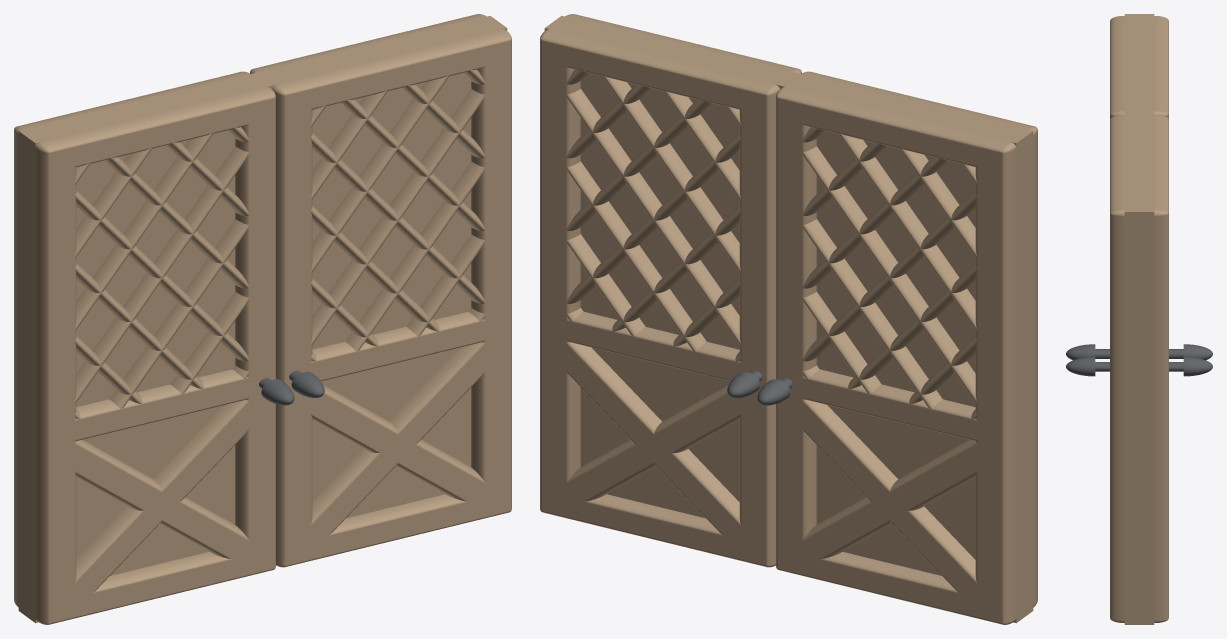
The model's file is doors.glb.
3 views of the same model, side by side, from view 1: azimuth 30°, elevation 25°; view 2: azimuth 150°, elevation 25°; view 3: azimuth 270°, elevation 25° (orthographic). The views are drawn at different scales.
Parts seen in each view (by area): view 1: Mesh_Mesh_head_geo.001_lambert2SG.001; view 2: Mesh_Mesh_head_geo.001_lambert2SG.001; view 3: Mesh_Mesh_head_geo.001_lambert2SG.001.
Part boxes in pixels (box(x1,y1,x2,y2)): Mesh_Mesh_head_geo.001_lambert2SG.001: box(14, 14, 511, 624); Mesh_Mesh_head_geo.001_lambert2SG.001: box(540, 14, 1037, 624); Mesh_Mesh_head_geo.001_lambert2SG.001: box(1066, 14, 1212, 624).
Bounding box in the file's own units: 0.0638 × 0.062 × 0.02.
